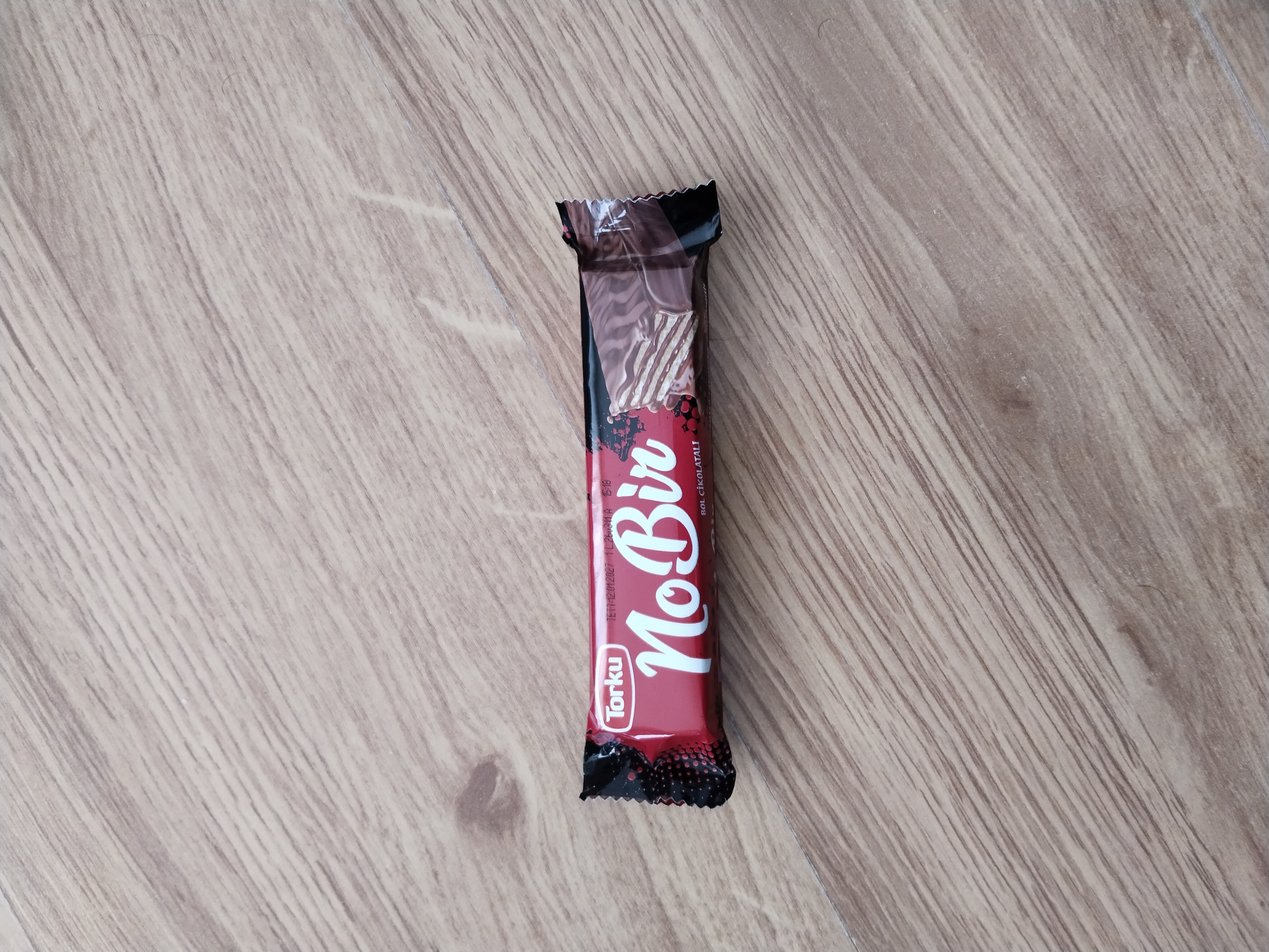torku_nobir_gofret: (579, 187, 730, 806)
